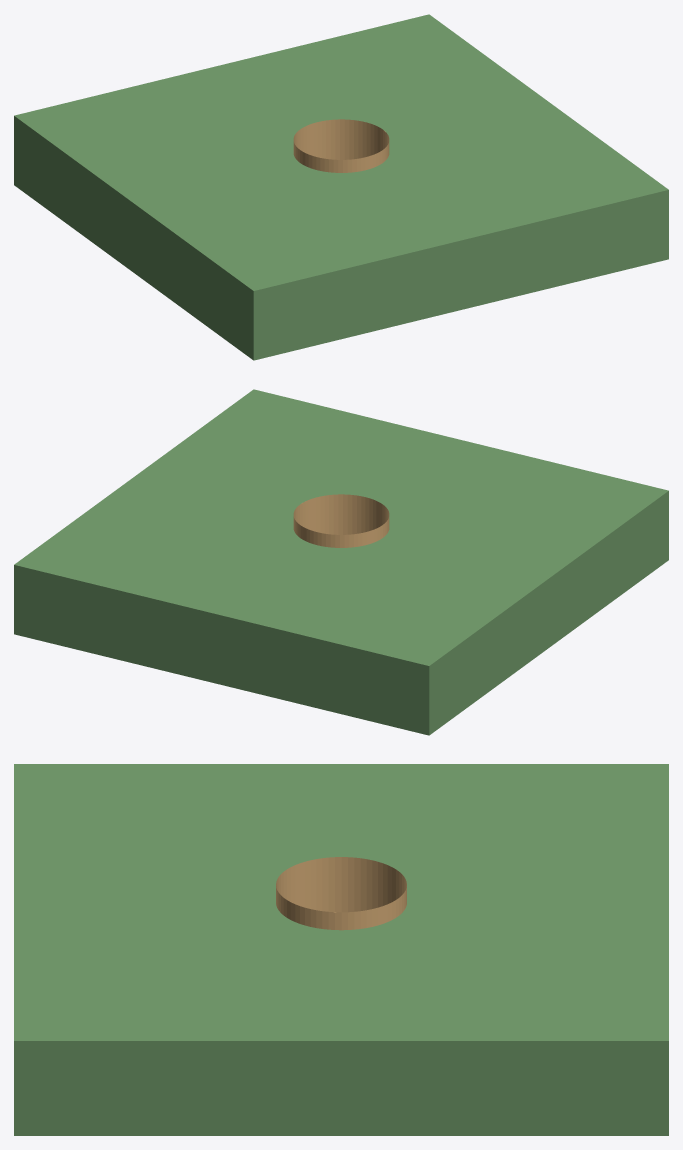
Rendered from board.glb.
The picture shows the model from 3 angles, top to bottom: view 1: azimuth 30°, elevation 25°; view 2: azimuth 150°, elevation 25°; view 3: azimuth 270°, elevation 25°; orthographic projection. The views are drawn at different scales.
Visible parts, largest first — view 1: Substrate_Layer_0_Z0, Contact_1; view 2: Substrate_Layer_0_Z0, Contact_1; view 3: Substrate_Layer_0_Z0, Contact_1.
Part boxes in pixels (box(x1,y1,x2,y2)): Substrate_Layer_0_Z0: box(14, 14, 668, 360); Contact_1: box(293, 119, 389, 172); Substrate_Layer_0_Z0: box(14, 389, 668, 735); Contact_1: box(293, 494, 389, 547); Substrate_Layer_0_Z0: box(14, 764, 668, 1135); Contact_1: box(276, 857, 406, 930).
Size of the model in its own units: 0.01 by 0.0021 by 0.01.
